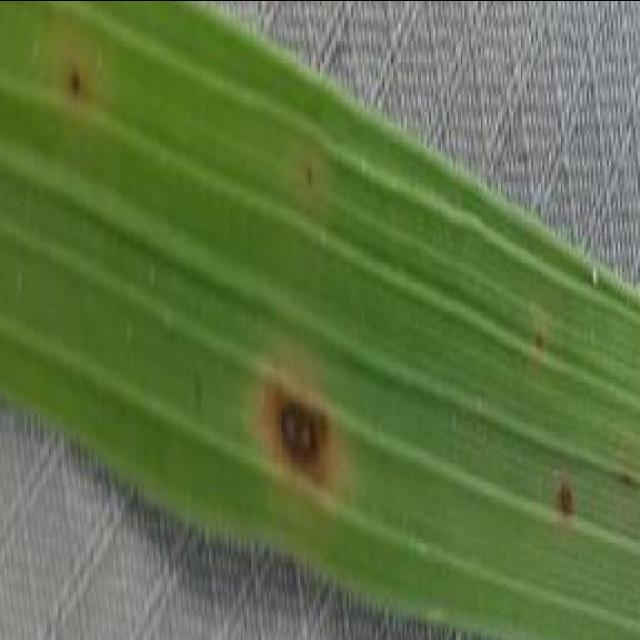Brown_Spot: (233, 345, 364, 511), (175, 353, 209, 422), (544, 462, 578, 522), (522, 316, 554, 362), (56, 56, 86, 102), (291, 151, 320, 193), (611, 458, 640, 498)
